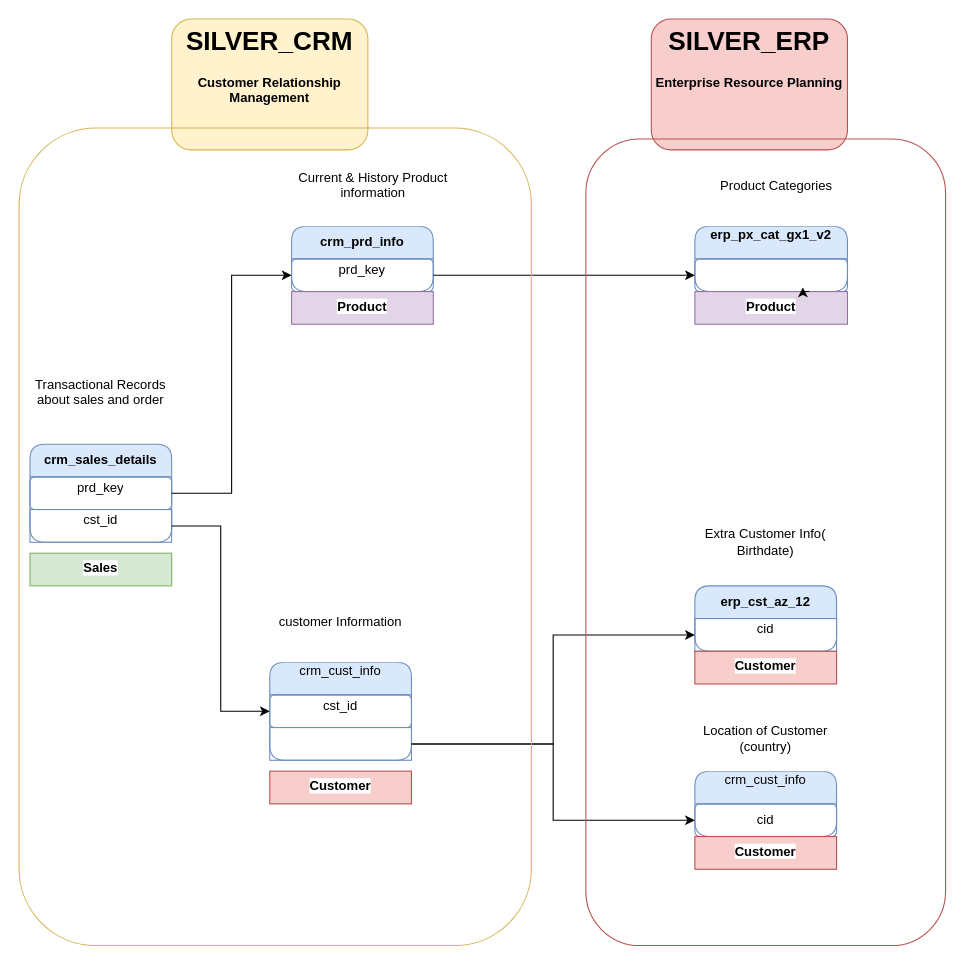
Image size: 965x965. Some labels were removed from this diagram. Here are the shapes that lost their labels. From the top down, the centre of each, then its label:
At point 770,275: "id".
At point 340,743: "cst_key".
